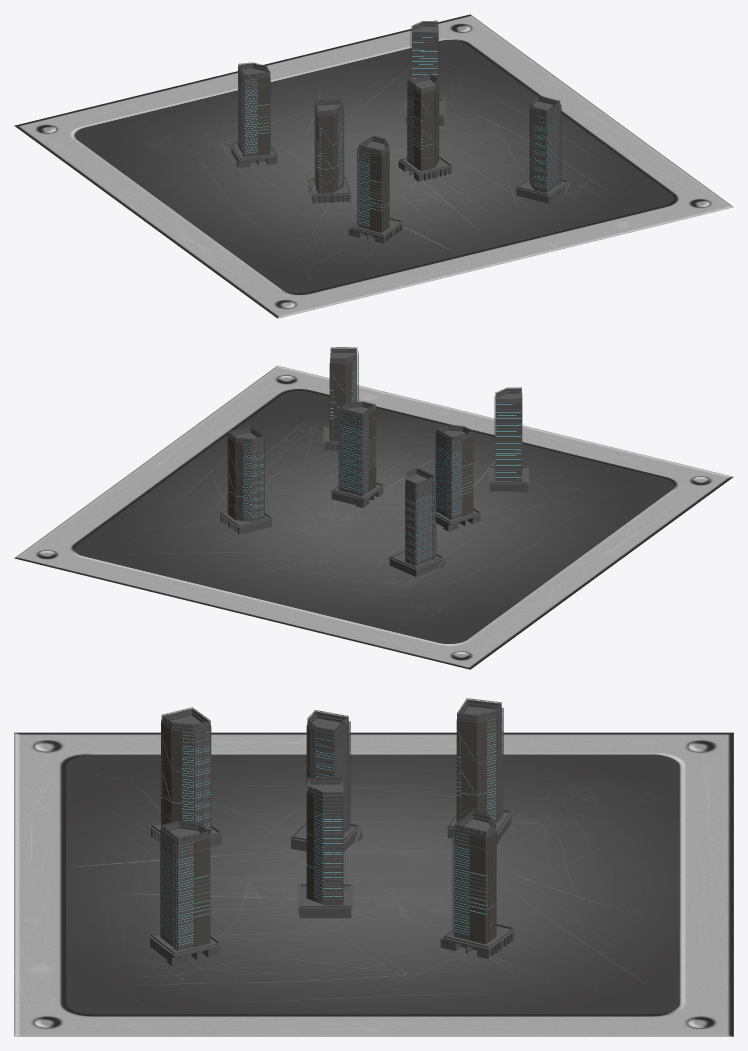
Rendered from com.demensdeum.hitech.town.map.model.glb.
3 renders of one model, top to bottom at view 1: azimuth 30°, elevation 25°; view 2: azimuth 150°, elevation 25°; view 3: azimuth 270°, elevation 25°, orthographic. The views are drawn at different scales.
Parts seen in each view (by area): view 1: Ground, polySurface19 (×5), polySurface4 (×5); view 2: Ground, polySurface19 (×5), polySurface4 (×5); view 3: Ground, polySurface4 (×6), polySurface19 (×5), polySurface20 (×2), polySurface24 (×2), polySurface47.
Boxes of the visible parts, x1,y1,x2,y2 form: Ground: (14,14,733,318); polySurface19 (×5): (229,142,570,243); polySurface4 (×5): (238,22,560,164); Ground: (14,365,733,669); polySurface19 (×5): (218,466,528,576); polySurface4 (×5): (228,389,521,498); Ground: (14,732,733,1036); polySurface4 (×6): (160,699,501,858); polySurface19 (×5): (147,809,516,966); polySurface20 (×2): (161,719,486,771); polySurface24 (×2): (163,738,486,801); polySurface47: (469,911,487,944).
Size of the model in its own units: 135 by 26.16 by 135.
4 materials, 1 textured.
